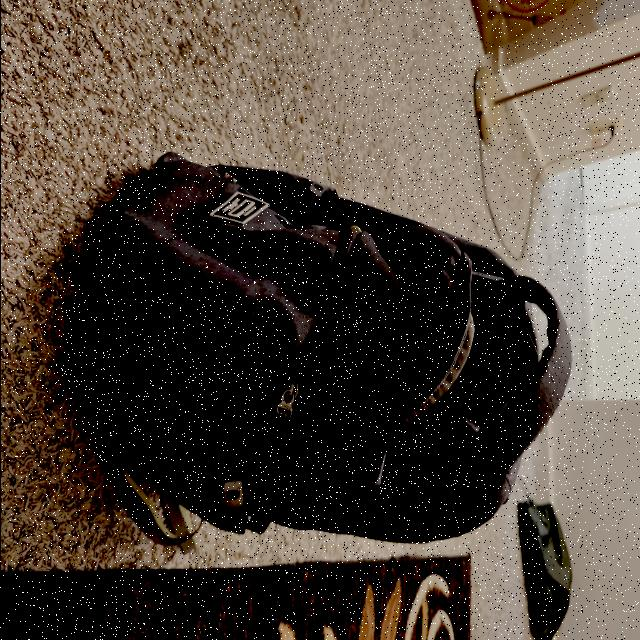bag: (123, 175, 509, 453)
